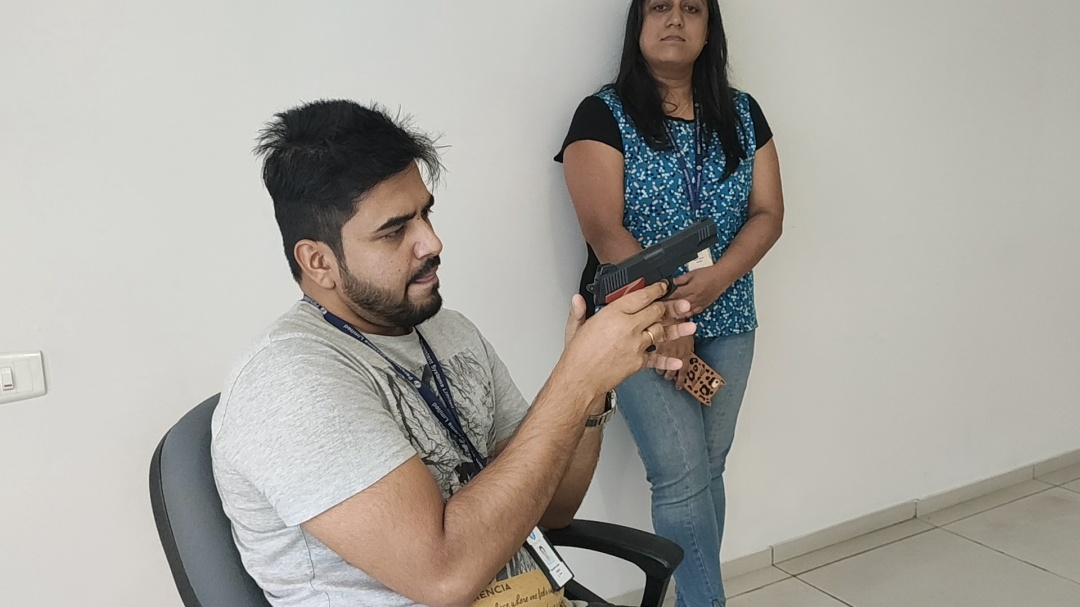gun: (586, 217, 719, 301)
